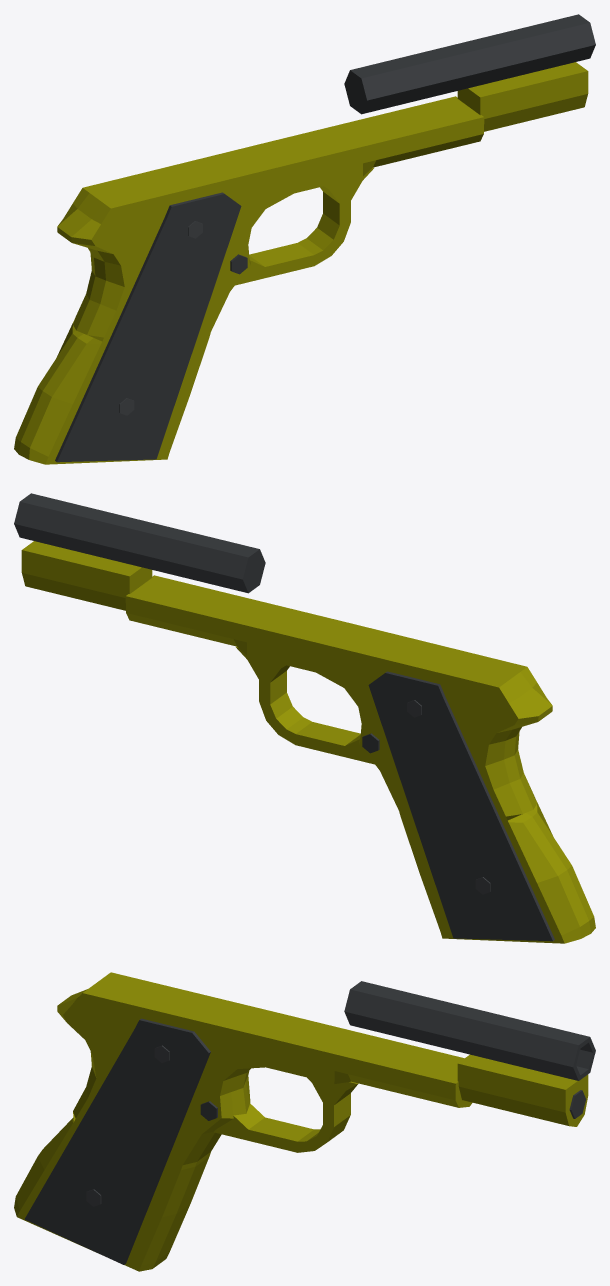
The model's file is Pistol2_05.fbx.
The picture shows the model from 3 angles, top to bottom: view 1: azimuth 30°, elevation 25°; view 2: azimuth 150°, elevation 25°; view 3: azimuth 330°, elevation 25°; orthographic projection.
Parts seen in each view (by area): view 1: Pistol2_05; view 2: Pistol2_05; view 3: Pistol2_05.
Boxes of the visible parts, x1=… form: Pistol2_05: x1=14, y1=14, x2=595, y2=464; Pistol2_05: x1=14, y1=493, x2=595, y2=943; Pistol2_05: x1=14, y1=972, x2=595, y2=1271.
Bounding box in the file's own units: 0.2643 × 0.1459 × 0.0274.
